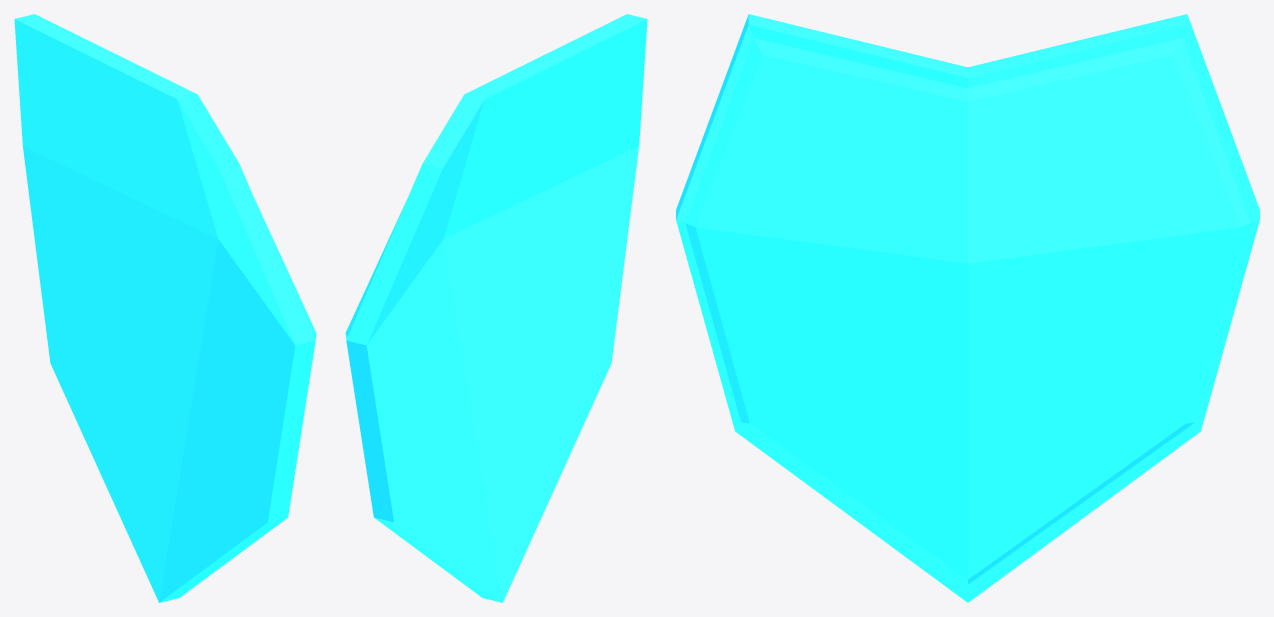
The model's file is shield.glb.
3 views of the same model, side by side, from view 1: azimuth 30°, elevation 25°; view 2: azimuth 150°, elevation 25°; view 3: azimuth 270°, elevation 25° (orthographic). The views are drawn at different scales.
Visible parts, largest first — view 1: Cube; view 2: Cube; view 3: Cube.
Boxes of the visible parts, bbox=[...] form: Cube: bbox=[14, 14, 316, 602]; Cube: bbox=[345, 14, 647, 602]; Cube: bbox=[676, 14, 1259, 602].
Bounding box in the file's own units: 1.07 × 4.16 × 3.96.
